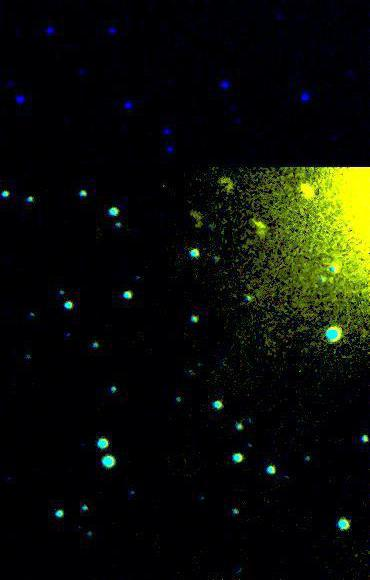star: (292, 173, 322, 203)
